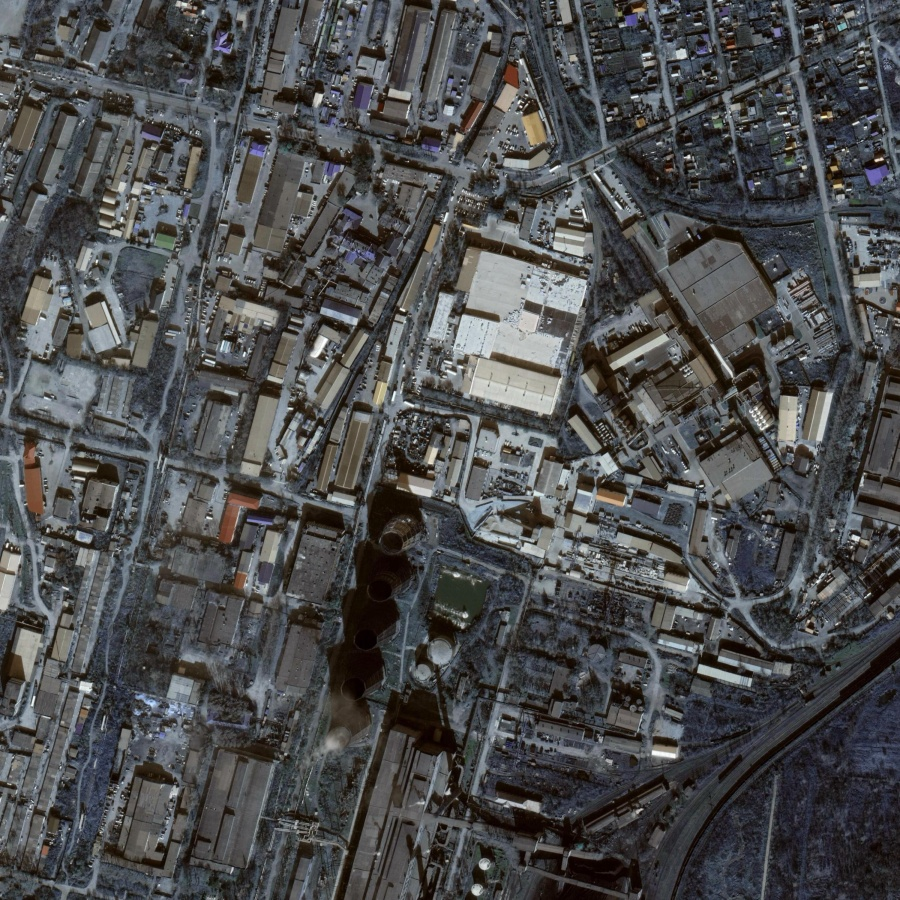PowerPlant: (295, 466, 465, 805)
